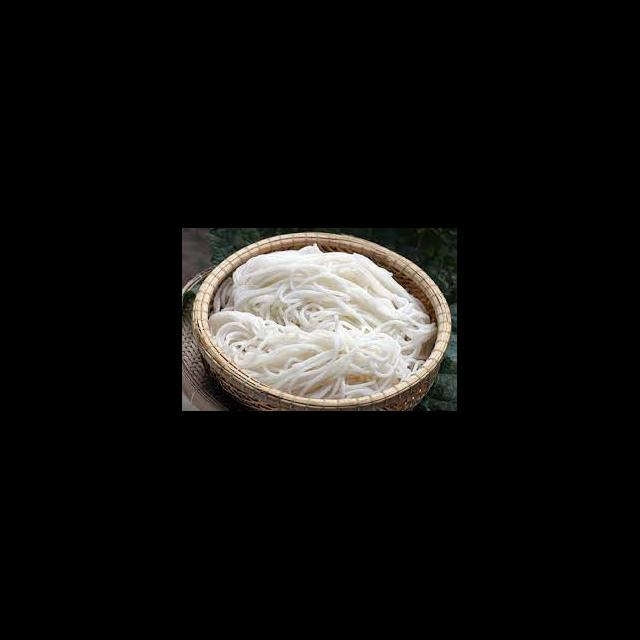noodles: (242, 254, 408, 382)
